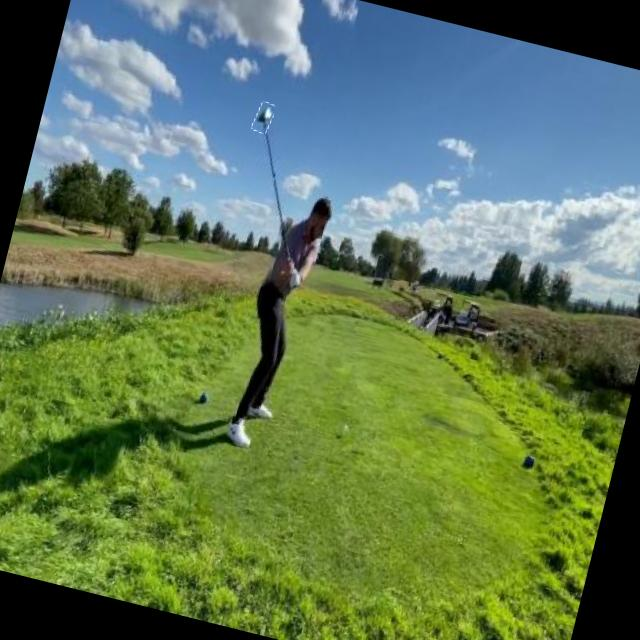club head: (251, 100, 275, 134)
